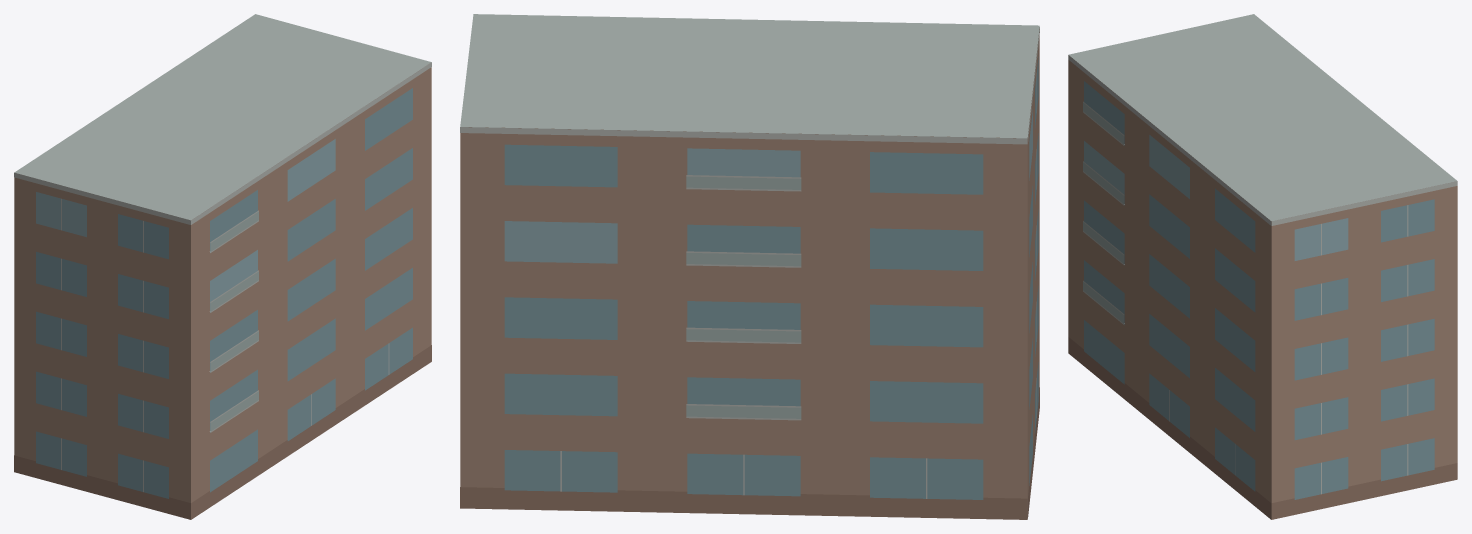
Rendered from survey-upis-32944637.glb.
The picture shows the model from 3 angles, left to right: view 1: azimuth 30°, elevation 25°; view 2: azimuth 150°, elevation 25°; view 3: azimuth 270°, elevation 25°; orthographic projection. The views are drawn at different scales.
Parts seen in each view (by area): view 1: survey-upis-32944637.tmp; view 2: survey-upis-32944637.tmp; view 3: survey-upis-32944637.tmp.
Boxes of the visible parts, <box> form: survey-upis-32944637.tmp: <box>14,14,431,519</box>; survey-upis-32944637.tmp: <box>460,14,1039,519</box>; survey-upis-32944637.tmp: <box>1068,14,1457,519</box>.
Size of the model in its own units: 22.73 by 15.25 by 18.04.
